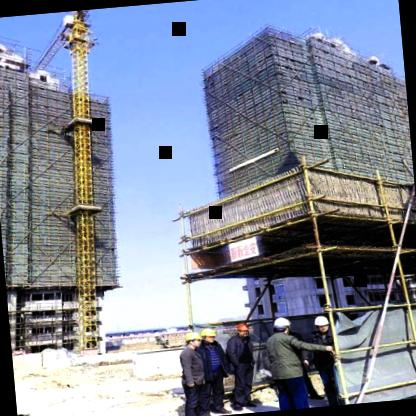helmet: (269, 315, 298, 337), (182, 330, 208, 354), (309, 312, 332, 337), (199, 323, 220, 348), (230, 318, 252, 338)
